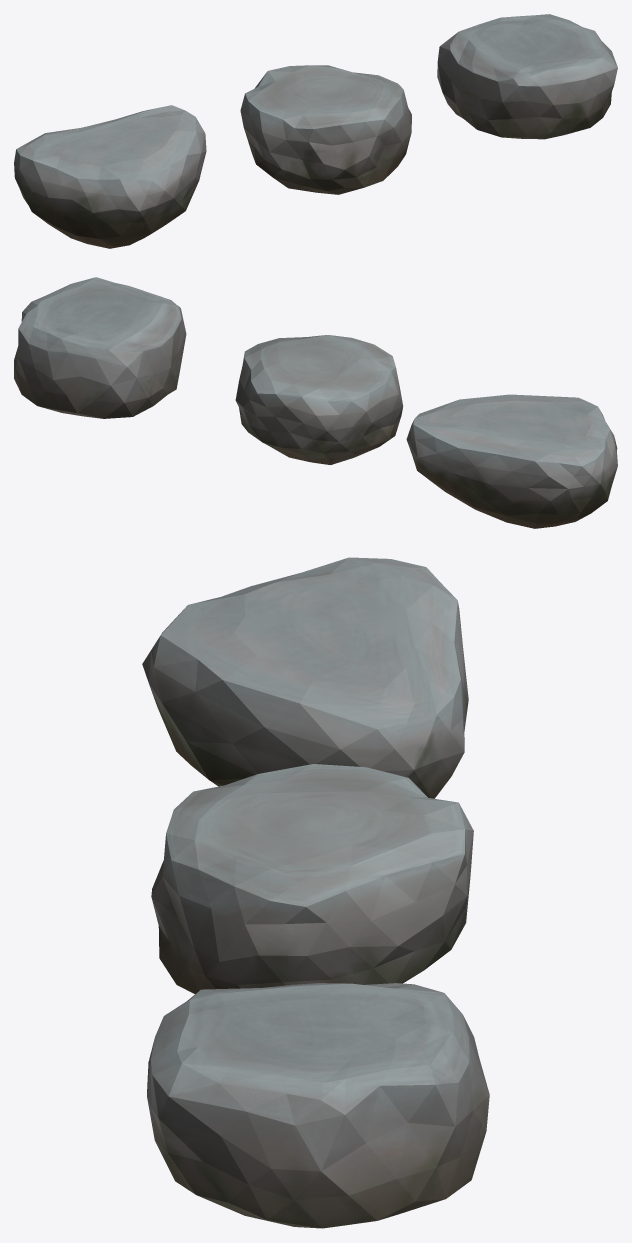
Rendered from Rocks_updated.glb.
3 renders of one model, top to bottom at view 1: azimuth 30°, elevation 25°; view 2: azimuth 150°, elevation 25°; view 3: azimuth 270°, elevation 25°, orthographic. The views are drawn at different scales.
Parts seen in each view (by area): view 1: Rock_1, Rock_3, Rock_2; view 2: Rock_1, Rock_3, Rock_2; view 3: Rock_3, Rock_2, Rock_1.
Part boxes in pixels (x1,y1,x2,y2): Rock_1: (14,105,206,248); Rock_3: (437,14,617,139); Rock_2: (240,65,411,194); Rock_1: (406,394,617,528); Rock_3: (14,277,186,418); Rock_2: (235,335,403,464); Rock_3: (147,983,489,1228); Rock_2: (151,764,473,993); Rock_1: (142,557,468,798).
Size of the model in its own units: 33.73 by 5.39 by 8.91.
3 materials, 3 textured.
